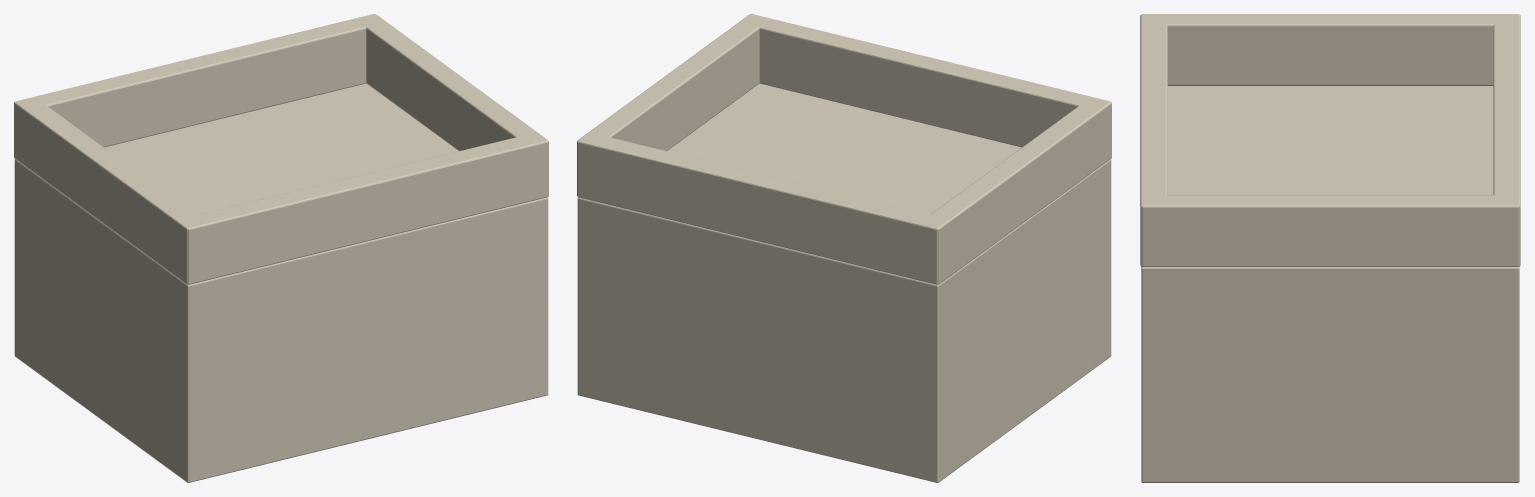
The model's file is greek_house_walkable_roof_LOD1.glb.
3 views of the same model, side by side, from view 1: azimuth 30°, elevation 25°; view 2: azimuth 150°, elevation 25°; view 3: azimuth 270°, elevation 25° (orthographic). The views are drawn at different scales.
Visible parts, largest first — view 1: LOD_House, LOD_Parapet, LOD_Parapet.001, LOD_Parapet.002, LOD_Parapet.003; view 2: LOD_House, LOD_Parapet.001, LOD_Parapet, LOD_Parapet.002, LOD_Parapet.003; view 3: LOD_House, LOD_Parapet.003, LOD_Parapet.002, LOD_Parapet.001, LOD_Parapet.
Boxes of the visible parts, x1=… form: LOD_House: x1=14, y1=83, x2=548, y2=482; LOD_Parapet: x1=178, y1=132, x2=548, y2=284; LOD_Parapet.001: x1=15, y1=14, x2=384, y2=147; LOD_Parapet.002: x1=14, y1=98, x2=204, y2=284; LOD_Parapet.003: x1=357, y1=14, x2=548, y2=195; LOD_House: x1=577, y1=83, x2=1111, y2=482; LOD_Parapet.001: x1=577, y1=132, x2=946, y2=284; LOD_Parapet: x1=741, y1=14, x2=1110, y2=147; LOD_Parapet.002: x1=920, y1=99, x2=1111, y2=284; LOD_Parapet.003: x1=577, y1=14, x2=767, y2=195; LOD_House: x1=1141, y1=86, x2=1519, y2=482; LOD_Parapet.003: x1=1141, y1=195, x2=1519, y2=266; LOD_Parapet.002: x1=1142, y1=14, x2=1518, y2=85; LOD_Parapet.001: x1=1493, y1=14, x2=1520, y2=266; LOD_Parapet: x1=1140, y1=14, x2=1167, y2=266.
Bounding box in the file's own units: 6.02 × 4.05 × 5.02.
